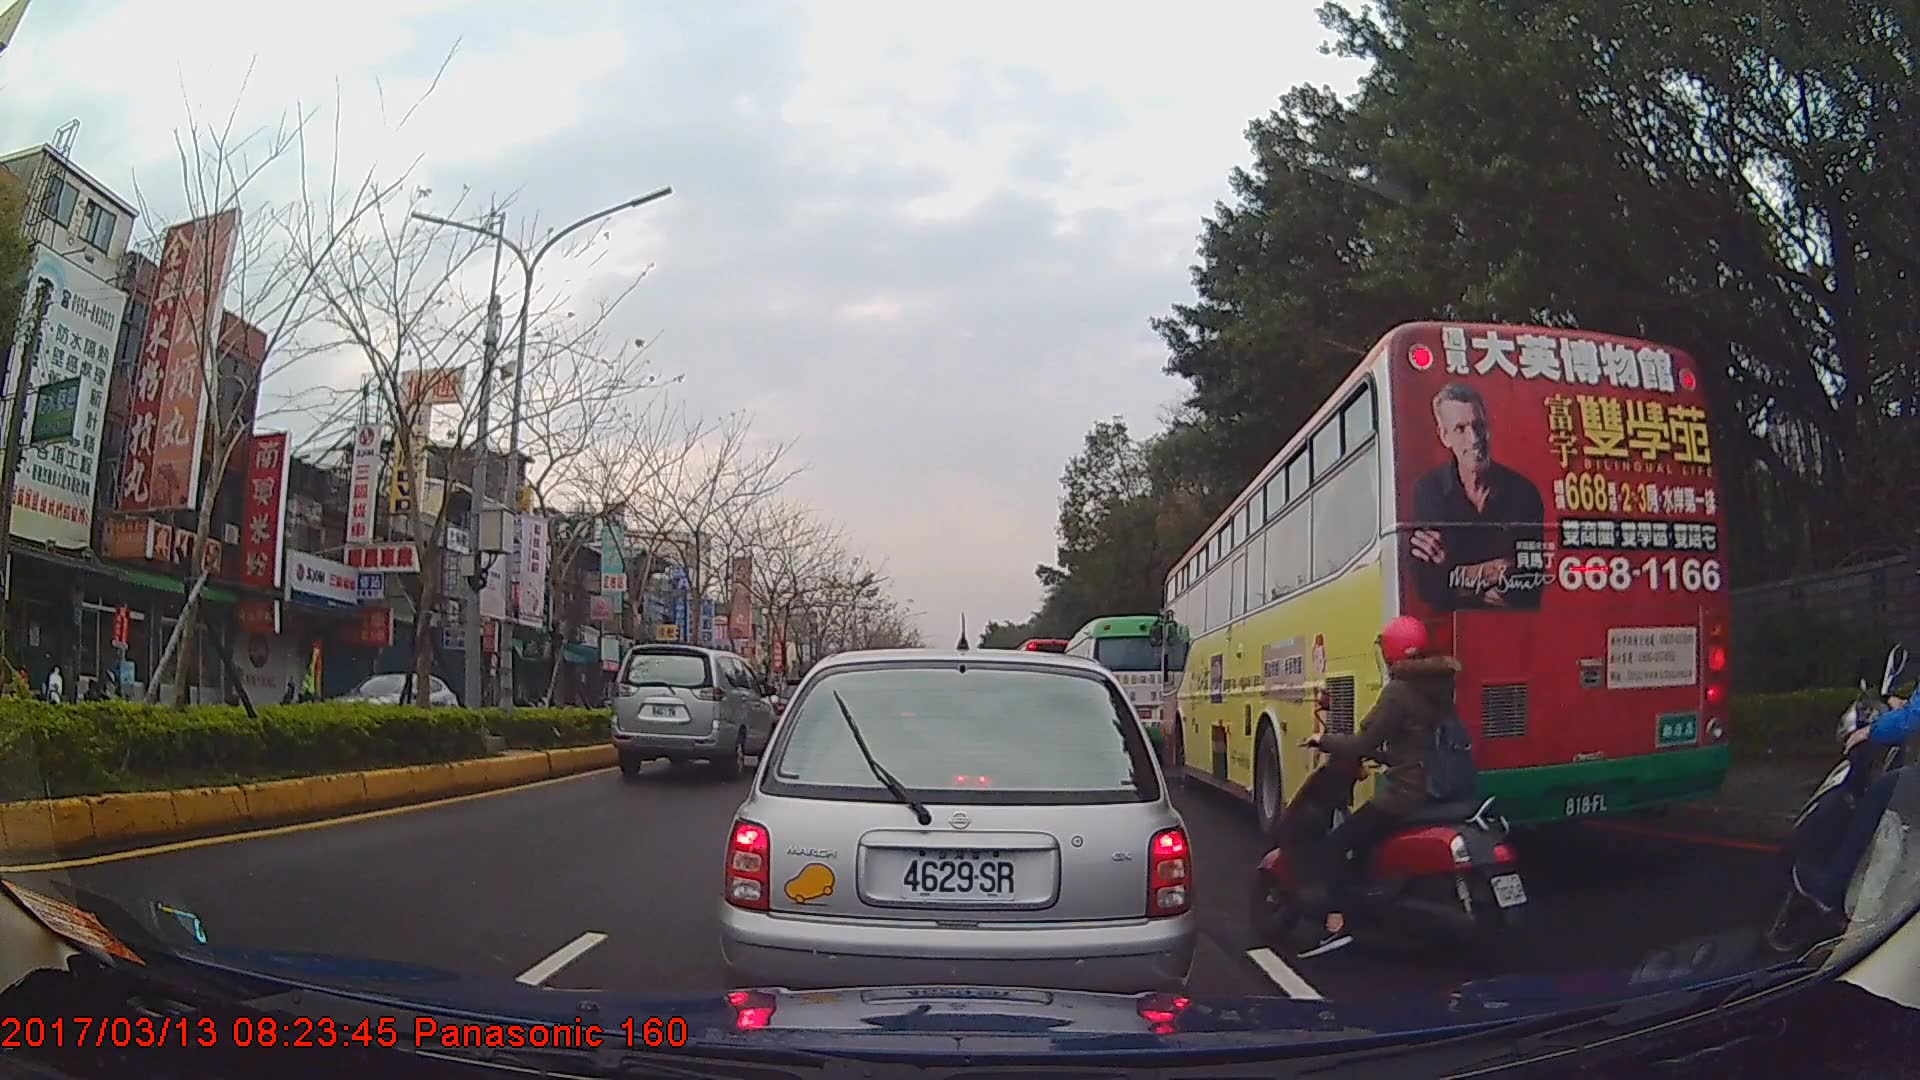rider: (1244, 612, 1532, 981), (1747, 539, 1920, 962)
vehicle: (1159, 319, 1728, 850), (716, 645, 1196, 1034), (611, 643, 778, 782), (1063, 614, 1187, 766), (319, 669, 457, 739)
